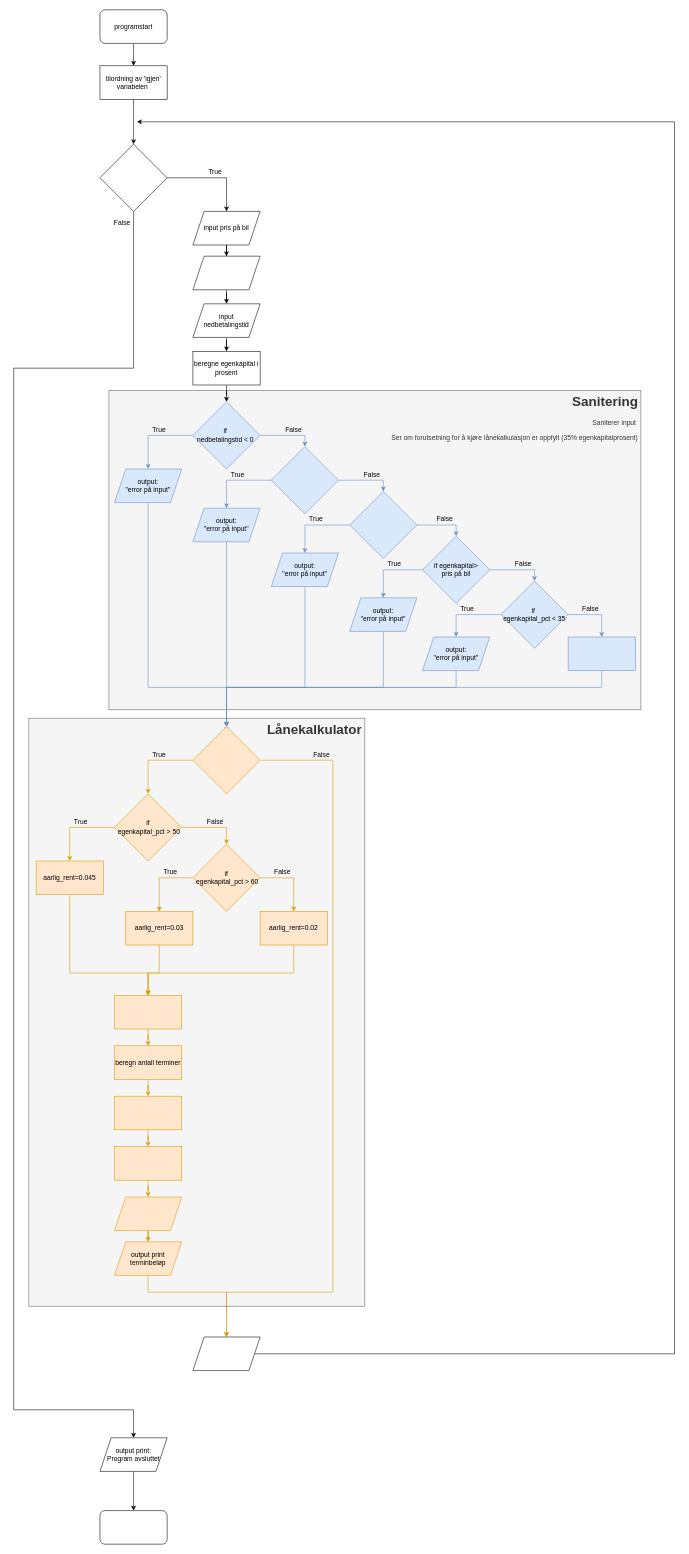
Some shapes in this 689 by 1554 pixel diagram are drawn without their labels. The centre of each missing label's shape, as x and y in pixels:
"beregn lånebeløp" belongs at [148,1113].
"beregn terminbeløp" belongs at [148,1163].
"beregn terminrente" belongs at [148,1012].
"if egenkapital < 0" belongs at [383,525].
"if laanekalkulasjon" belongs at [226,760].
"if pris på bil <= 0" belongs at [305,480].
"input egenkapital" belongs at [226,273].
"input: kjøre program igjen?" belongs at [226,1353].
"output print egenkapital i %" belongs at [148,1213].
"Program avsluttet" belongs at [133,1527].
"tilordne laanekalkulasjon = True" belongs at [601,653].
"while igjen er JA" belongs at [133,177].
